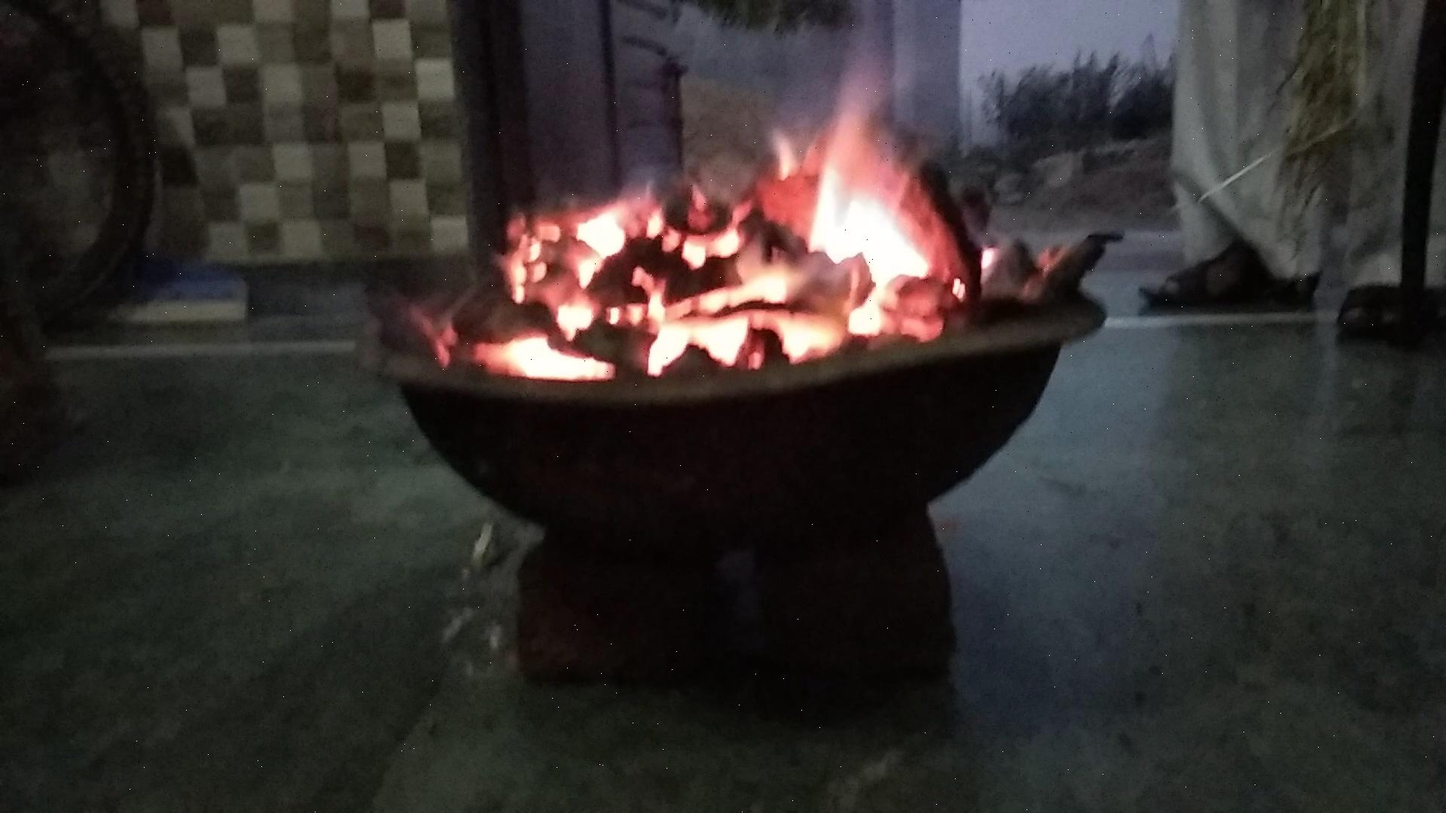fire: (487, 68, 986, 395)
